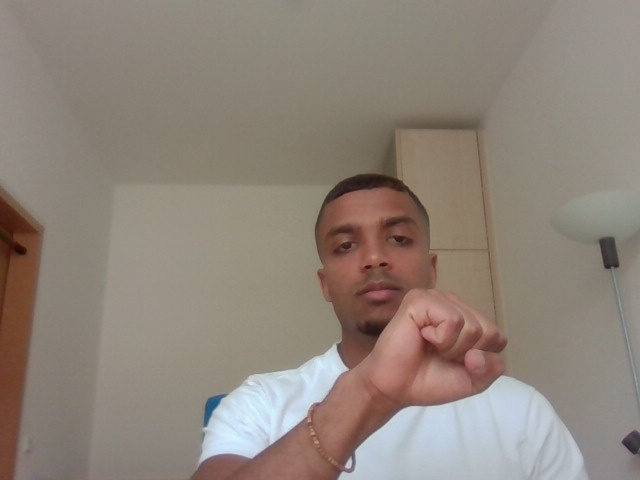maybe: (340, 266, 520, 421)
